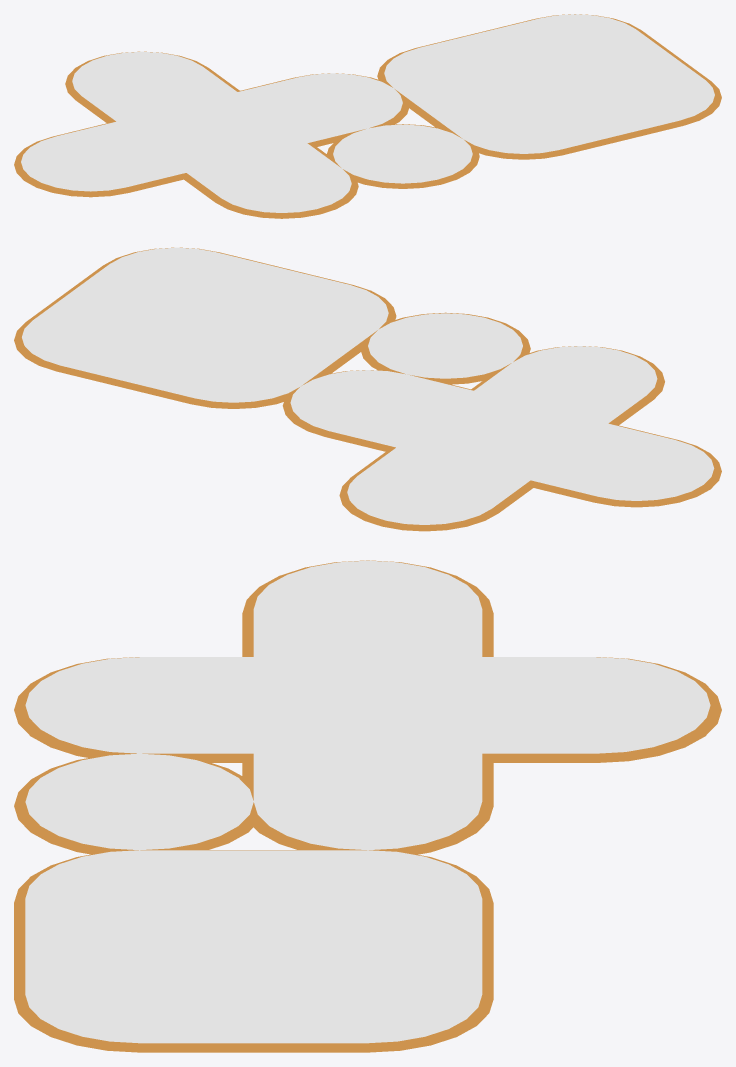
File: clouds_simplified_2.fbx
3 views of the same model, one above another, from view 1: azimuth 30°, elevation 25°; view 2: azimuth 150°, elevation 25°; view 3: azimuth 270°, elevation 25° (orthographic). The views are drawn at different scales.
Parts seen in each view (by area): view 1: CornerTR, CornerTL, DemiT, DemiR, Central, CornerBR, DemiB, CornerBL, DemiL, Lone; view 2: CornerBR, DemiB, CornerBL, DemiR, Central, CornerTR, DemiL, CornerTL, DemiT, Lone; view 3: CornerTL, CornerBL, Central, DemiB, DemiL, CornerBR, CornerTR, DemiT, DemiR, Lone.
Part boxes in pixels (x1=…): CornerTR: x1=419, y1=84, x2=623, y2=159; CornerTL: x1=550, y1=53, x2=721, y2=141; DemiT: x1=178, y1=143, x2=358, y2=218; DemiR: x1=14, y1=121, x2=191, y2=197; Central: x1=117, y1=92, x2=306, y2=179; CornerBR: x1=377, y1=32, x2=549, y2=120; DemiB: x1=65, y1=51, x2=240, y2=123; CornerBL: x1=470, y1=14, x2=677, y2=83; DemiL: x1=238, y1=73, x2=408, y2=147; Lone: x1=326, y1=124, x2=479, y2=188; CornerBR: x1=117, y1=325, x2=349, y2=408; DemiB: x1=339, y1=447, x2=532, y2=531; CornerBL: x1=14, y1=291, x2=204, y2=385; DemiR: x1=524, y1=423, x2=721, y2=507; Central: x1=396, y1=389, x2=607, y2=487; CornerTR: x1=205, y1=267, x2=396, y2=364; DemiL: x1=282, y1=370, x2=473, y2=451; CornerTL: x1=61, y1=247, x2=292, y2=324; DemiT: x1=471, y1=346, x2=664, y2=425; Lone: x1=360, y1=312, x2=530, y2=384; CornerTL: x1=14, y1=946, x2=265, y2=1052; CornerBL: x1=253, y1=946, x2=493, y2=1052; Central: x1=242, y1=657, x2=493, y2=762; DemiB: x1=482, y1=657, x2=721, y2=762; DemiL: x1=242, y1=753, x2=493, y2=854; CornerBR: x1=242, y1=850, x2=493, y2=954; CornerTR: x1=14, y1=850, x2=253, y2=953; DemiT: x1=14, y1=657, x2=253, y2=762; DemiR: x1=242, y1=560, x2=493, y2=656; Lone: x1=14, y1=753, x2=261, y2=854.
Size of the model in its own units: 1020 by 4.4 by 620.
